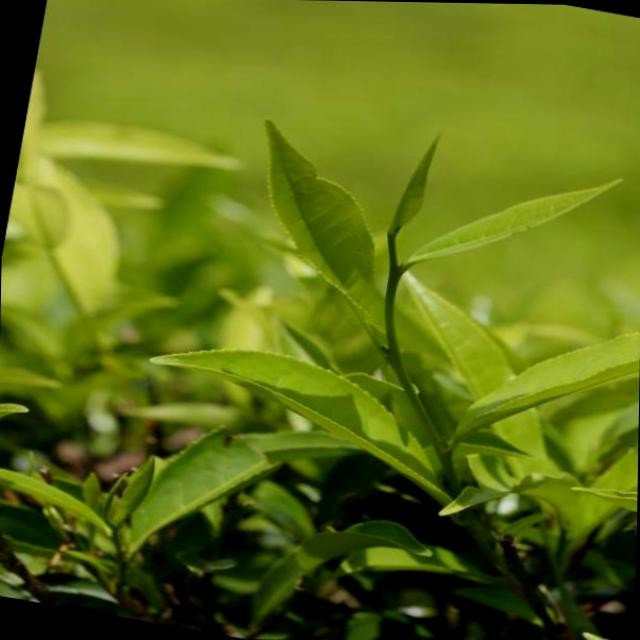Stem: (387, 267, 403, 283)
